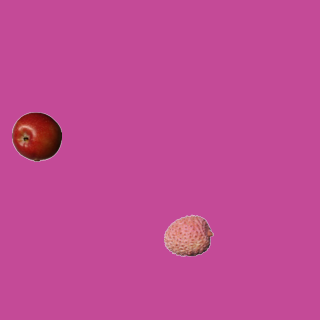Apple Braeburn: (11, 111, 61, 161)
Lychee: (163, 210, 213, 260)
